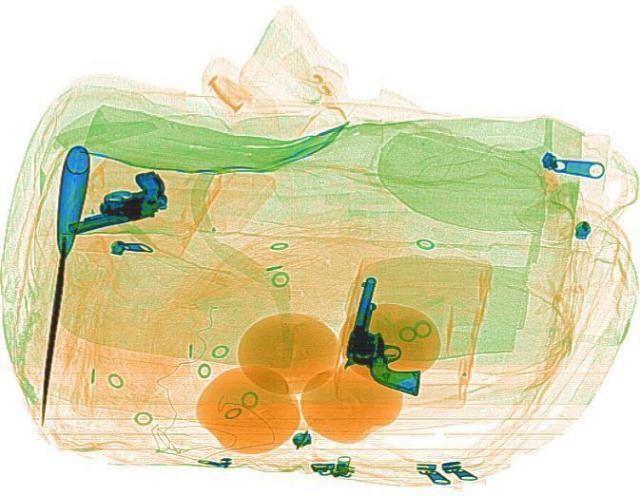Gun: (329, 272, 446, 393), (49, 166, 175, 232)
Knife: (26, 143, 90, 427)
